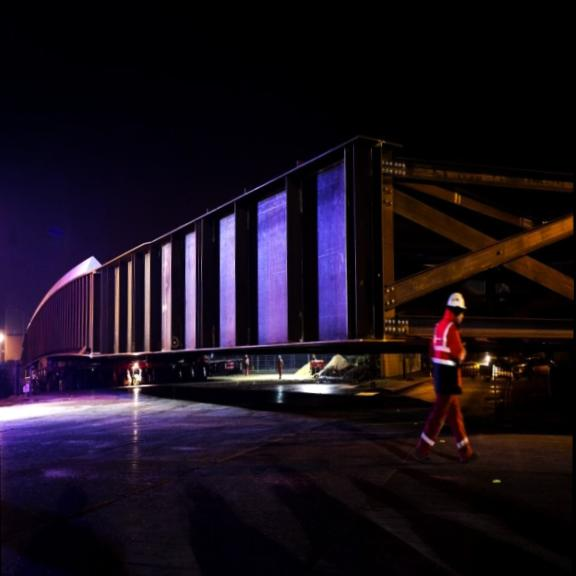safety_vest: (433, 309, 458, 365)
